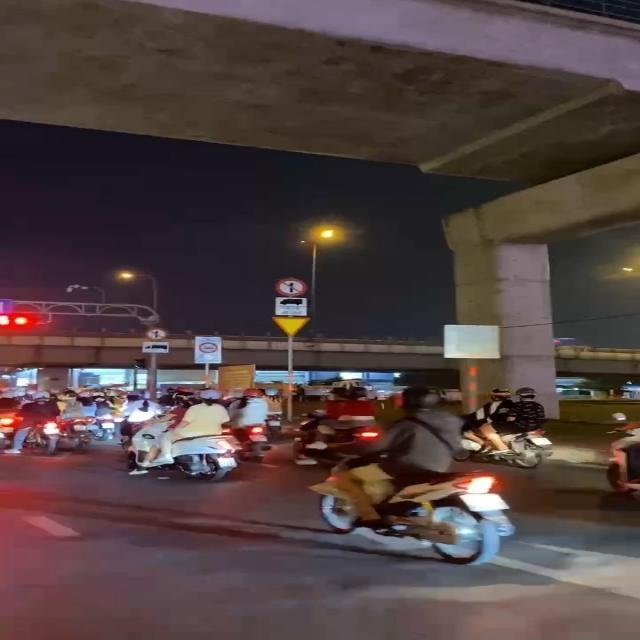136-cam-di-thang: (274, 278, 308, 296), (144, 328, 168, 341)
208-giao-nhau-voi-duong-uu-tien: (270, 317, 311, 338)
